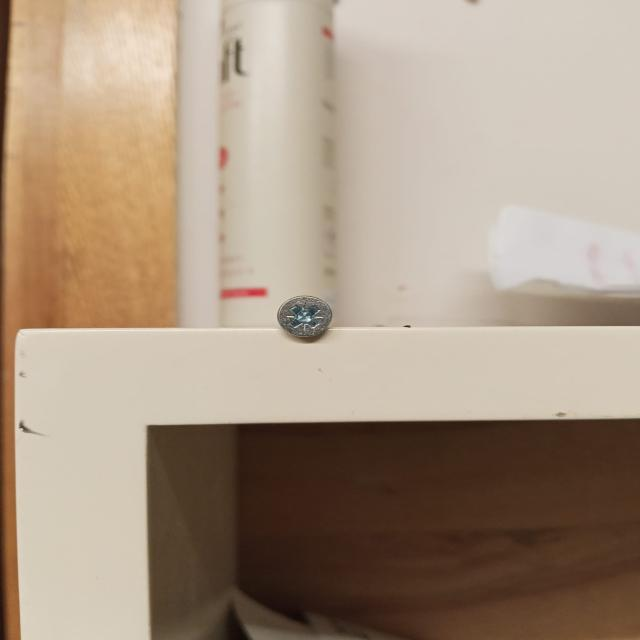pozidriv: (277, 295, 332, 338)
